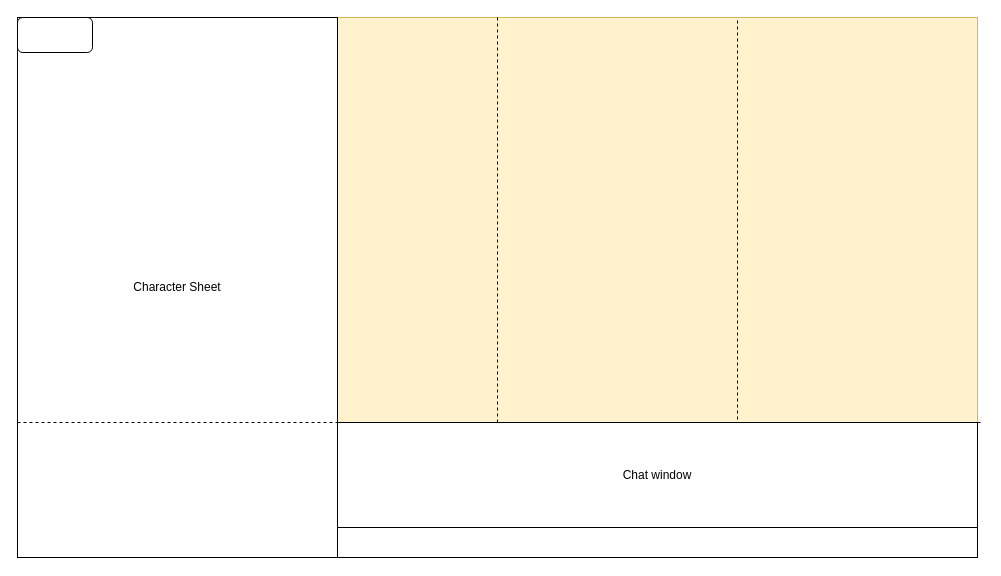
The diagram is 1001 pixels wide and 576 high, and some of its shapes have lost their labels. The shapes that lost their labels are listed below. From the top down, each one's box as (x1, y1, x2, y2) in pixels, then its label:
(16, 16, 92, 52): Tabs for open things
(336, 526, 978, 558): Chat box
